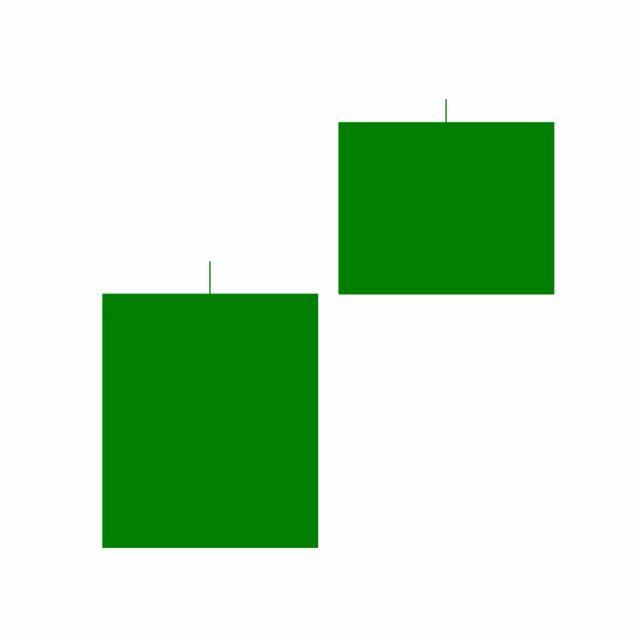Marubozu: (328, 98, 566, 297)
